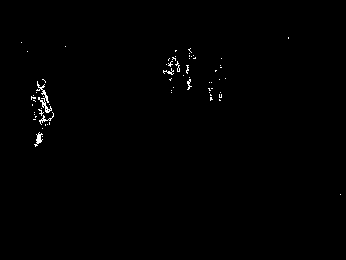person: (31, 80, 54, 145), (163, 48, 180, 92)
